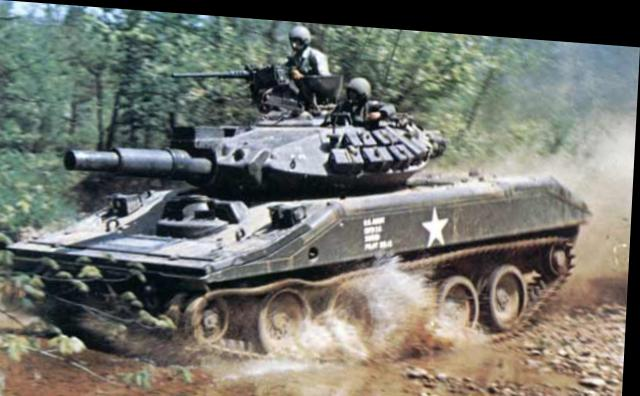other: (260, 19, 330, 93), (331, 63, 393, 126)
tank: (0, 86, 592, 373)
